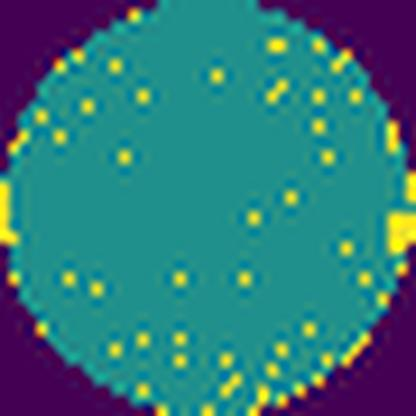Edge-Loc: (379, 200, 415, 264)
